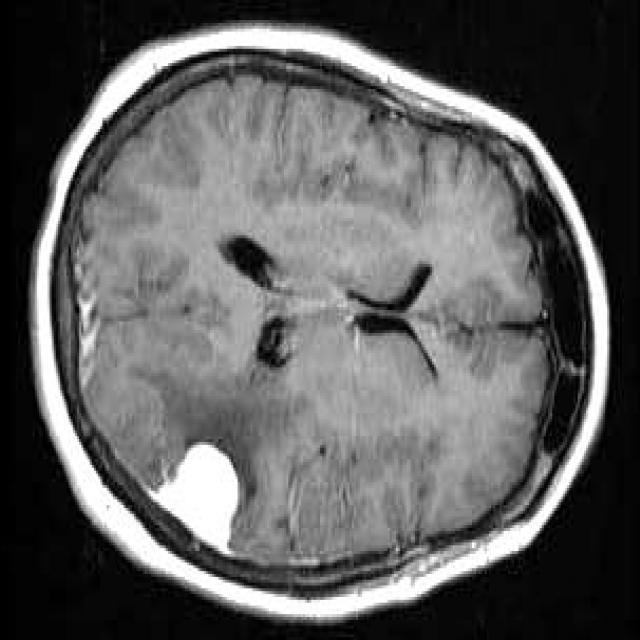tumor: (150, 442, 239, 551)
